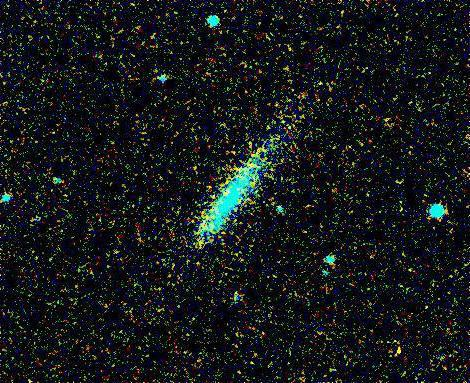star: (385, 339, 415, 369)
